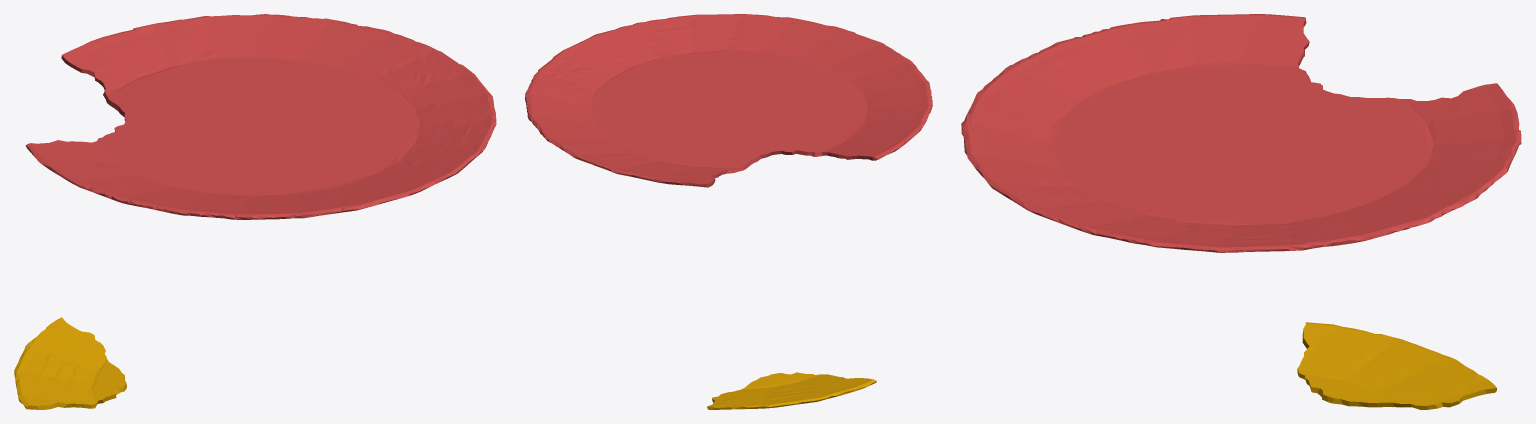
Rendered from fractured_49_2pcs_transformed.glb.
3 views of the same model, side by side, from view 1: azimuth 30°, elevation 25°; view 2: azimuth 150°, elevation 25°; view 3: azimuth 270°, elevation 25° (orthographic). The views are drawn at different scales.
Parts seen in each view (by area): view 1: piece_1.obj, piece_0.obj; view 2: piece_1.obj, piece_0.obj; view 3: piece_1.obj, piece_0.obj.
Boxes of the visible parts, <box> form: piece_1.obj: <box>26,14,496,219</box>; piece_0.obj: <box>14,317,126,409</box>; piece_1.obj: <box>525,14,932,187</box>; piece_0.obj: <box>707,372,876,409</box>; piece_1.obj: <box>961,14,1521,252</box>; piece_0.obj: <box>1297,322,1496,409</box>.
Size of the model in its own units: 1 by 0.6369 by 0.9991.
